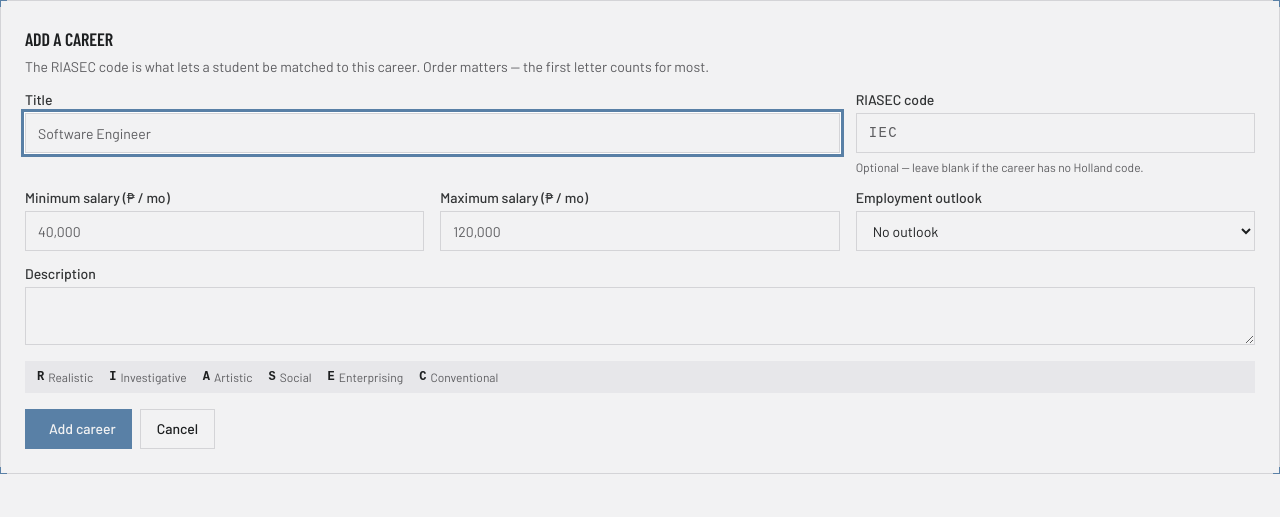
Scenario: CareerForm › refuses to submit the invalid code IIE
In the field labelled "Title": (432, 133) x1=25 y1=113 x2=840 y2=153, type "Some Career"
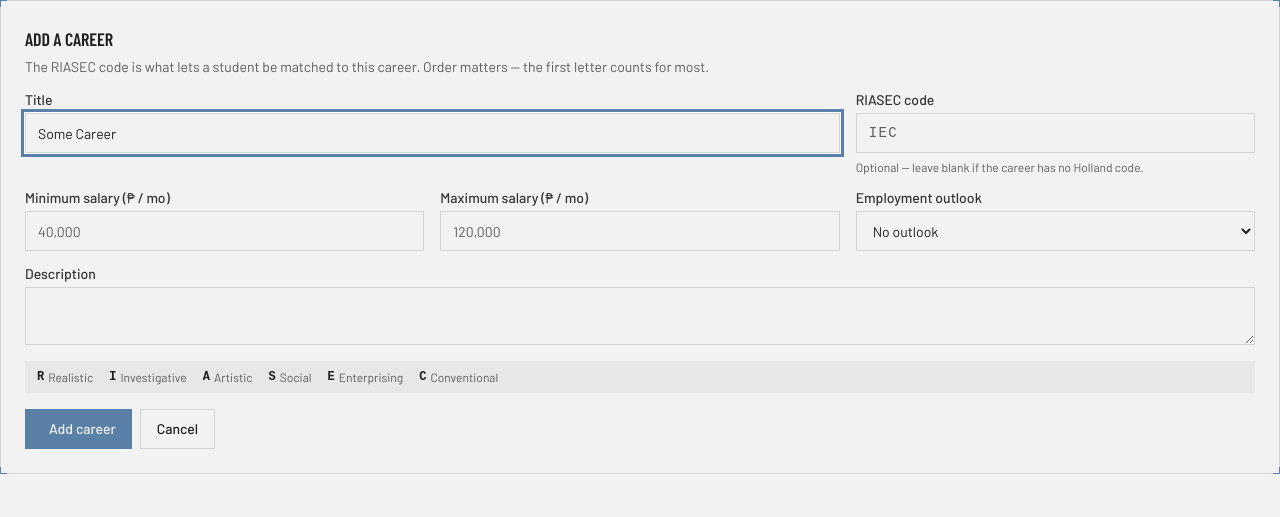
In the field labelled "RIASEC code": (1055, 133) x1=856 y1=113 x2=1255 y2=153, type "IIE"
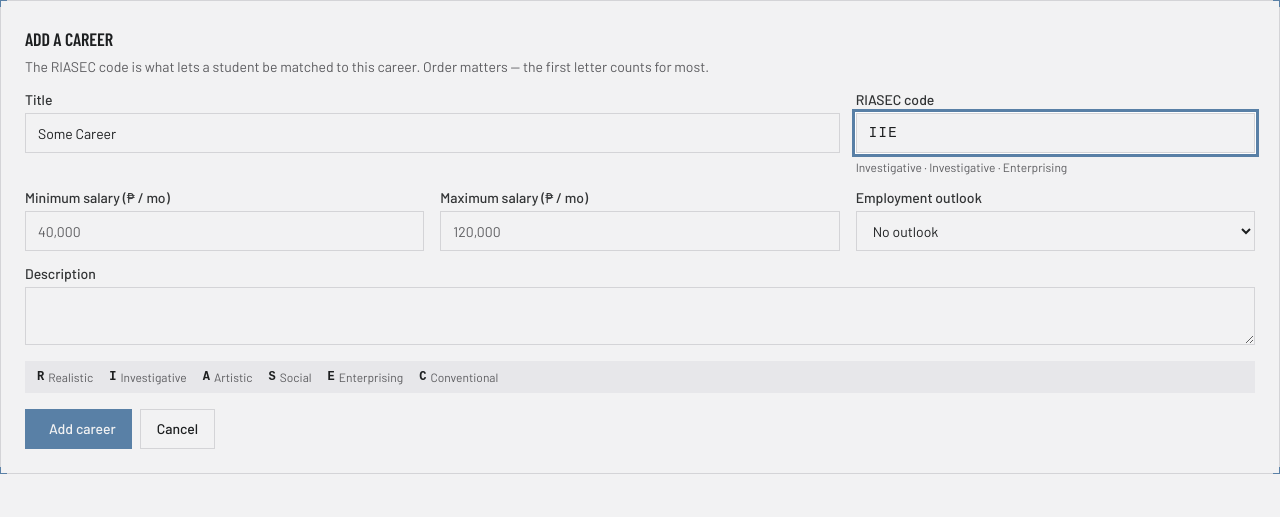
Click the button "Add career": click(78, 429) x1=25 y1=409 x2=132 y2=449
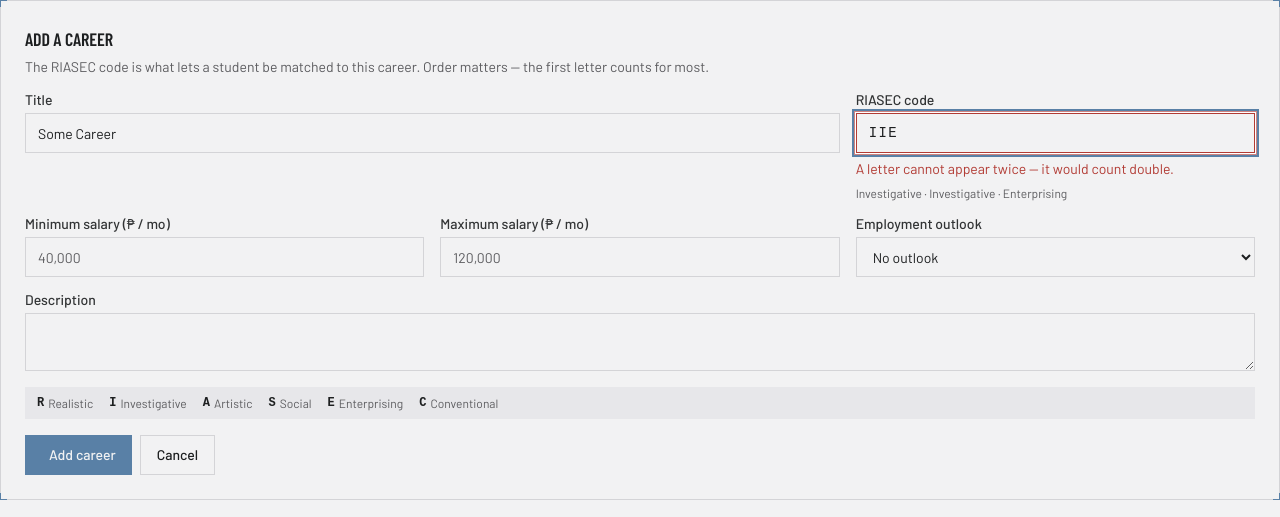
Check: the text "A letter cannot appear twice — it would count double." is shown, box x1=856 y1=160 x2=1174 y2=177
